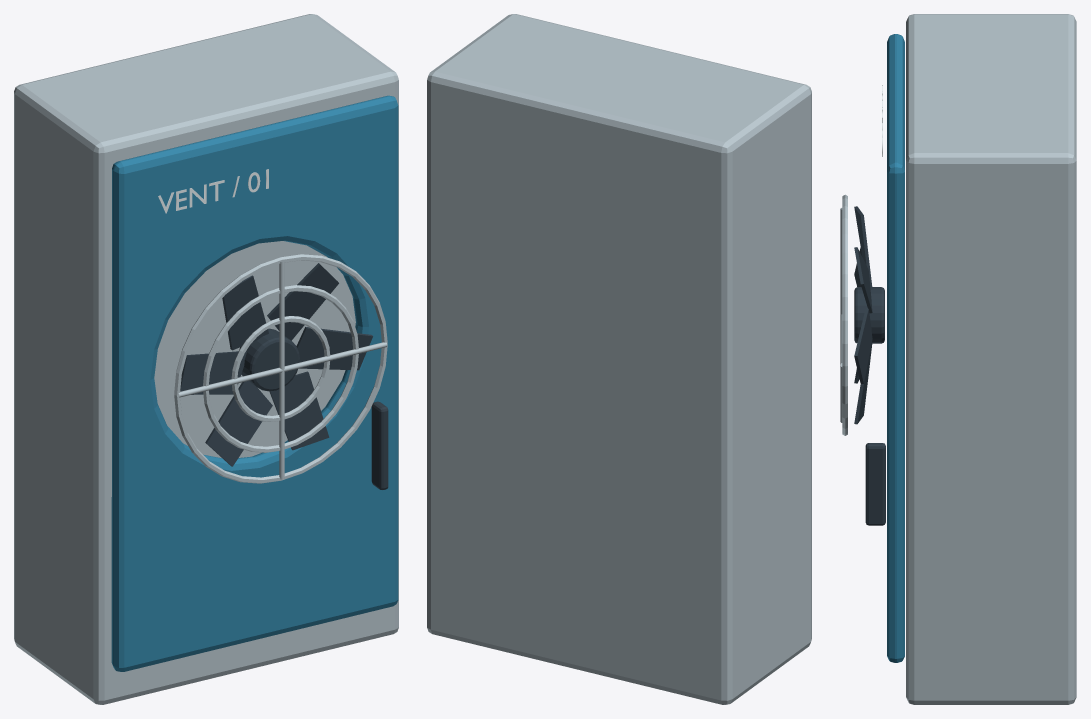
Rendered from cabinet.glb.
3 renders of one model, left to right at view 1: azimuth 30°, elevation 25°; view 2: azimuth 150°, elevation 25°; view 3: azimuth 270°, elevation 25°, orthographic. The views are drawn at different scales.
Visible parts, largest first — view 1: Cabinet fan door, Cabinet enclosure, Fan guard ring.002, Fan guard ring.001, Fan blade 4, Fan blade 5, Fan hub, Fan blade 1, Fan blade 0, Fan guard ring, Fan blade 2, Fan blade 3 (+4 smaller); view 2: Cabinet enclosure; view 3: Cabinet enclosure, Cabinet fan door, Door handle, Fan guard ring.002, Fan hub, Fan blade 0, Fan blade 1, Fan blade 2, Fan guard brace.001, Fan blade 5.
Boxes of the visible parts, left/top/right/bottom form: Cabinet fan door: left=111, top=95, right=398, bottom=671; Cabinet enclosure: left=14, top=14, right=398, bottom=704; Fan guard ring.002: left=174, top=254, right=387, bottom=483; Fan guard ring.001: left=203, top=285, right=358, bottom=452; Fan blade 4: left=205, top=380, right=272, bottom=466; Fan blade 5: left=269, top=371, right=329, bottom=450; Fan hub: left=239, top=328, right=299, bottom=391; Fan blade 1: left=267, top=263, right=338, bottom=340; Fan blade 0: left=296, top=327, right=372, bottom=370; Fan guard ring: left=231, top=316, right=330, bottom=421; Fan blade 2: left=222, top=275, right=268, bottom=350; Fan blade 3: left=180, top=351, right=246, bottom=394; Cabinet enclosure: left=427, top=14, right=811, bottom=704; Cabinet enclosure: left=906, top=14, right=1076, bottom=704; Cabinet fan door: left=887, top=34, right=904, bottom=662; Door handle: left=865, top=443, right=885, bottom=525; Fan guard ring.002: left=842, top=194, right=847, bottom=435; Fan hub: left=854, top=287, right=884, bottom=343; Fan blade 0: left=854, top=308, right=872, bottom=383; Fan blade 1: left=854, top=247, right=872, bottom=313; Fan blade 2: left=854, top=206, right=872, bottom=289; Fan guard brace.001: left=840, top=208, right=842, bottom=422; Fan blade 5: left=854, top=344, right=872, bottom=424.
Size of the model in its own units: 0.85 by 1.5 by 0.582.
